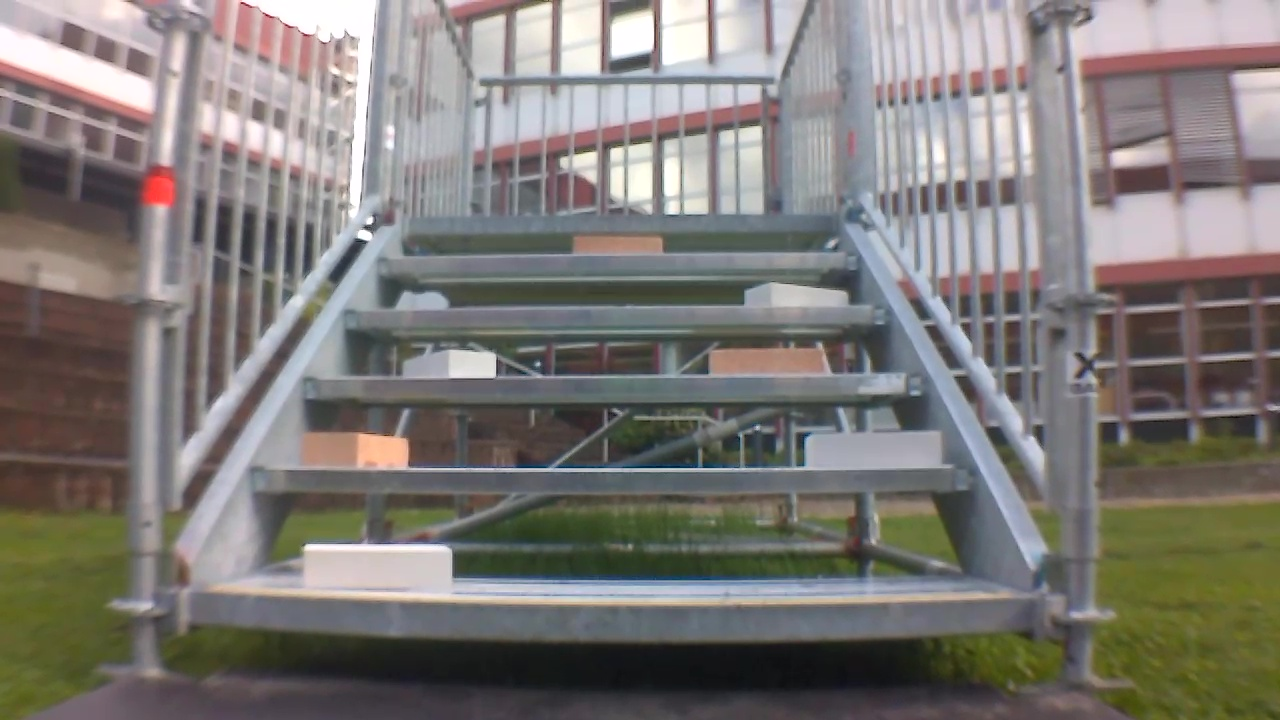brick: (299, 542, 452, 587), (803, 429, 948, 468), (305, 428, 411, 469), (706, 349, 826, 377), (743, 282, 856, 311), (400, 351, 501, 379), (572, 233, 667, 255)
edge: (189, 593, 1046, 635), (244, 467, 975, 501), (298, 372, 931, 398), (343, 305, 893, 331), (375, 250, 864, 277), (397, 215, 839, 237)
stairs: (127, 0, 1074, 701)
steps: (176, 211, 1055, 638)
